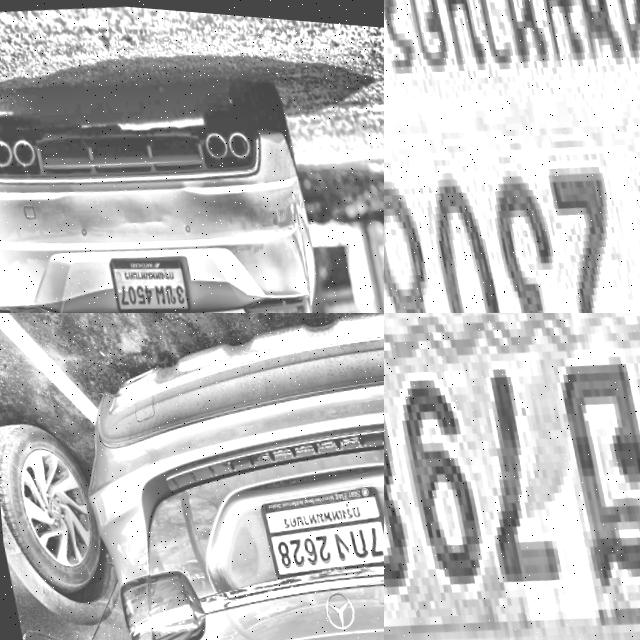license-plate: (384, 313, 640, 640), (384, 0, 640, 313), (250, 465, 384, 581), (102, 244, 188, 313)
